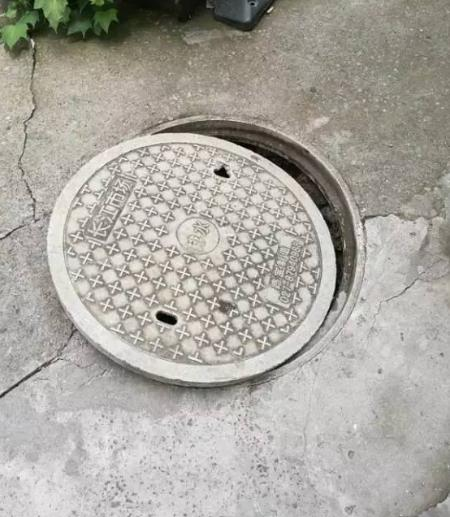wellcover: (42, 109, 375, 395)
